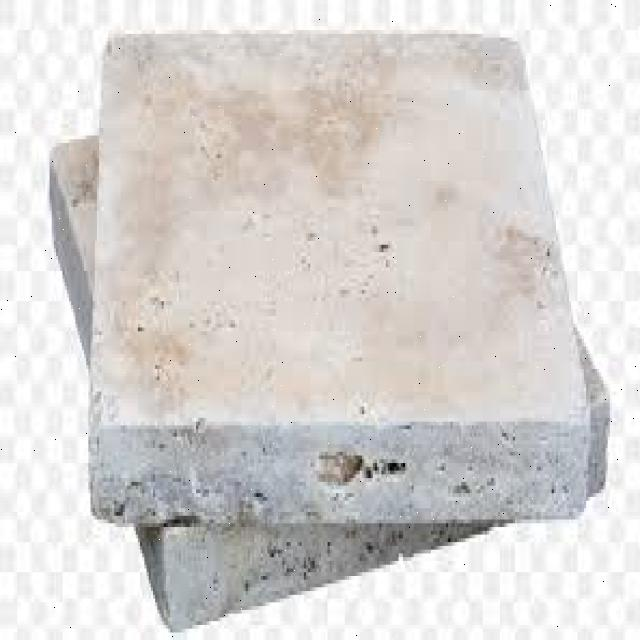Metamorphic: (20, 8, 614, 606)
